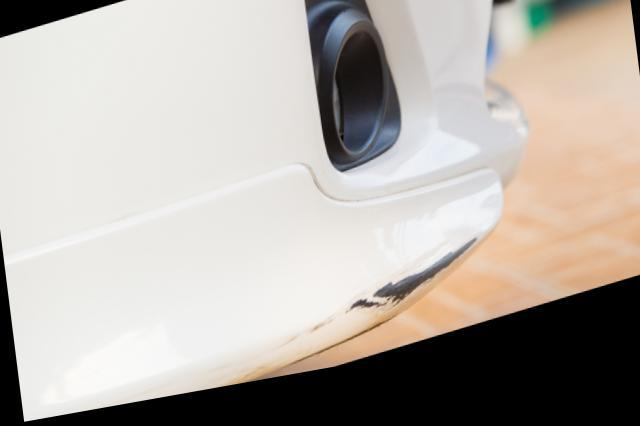scratch: (330, 252, 482, 332)
